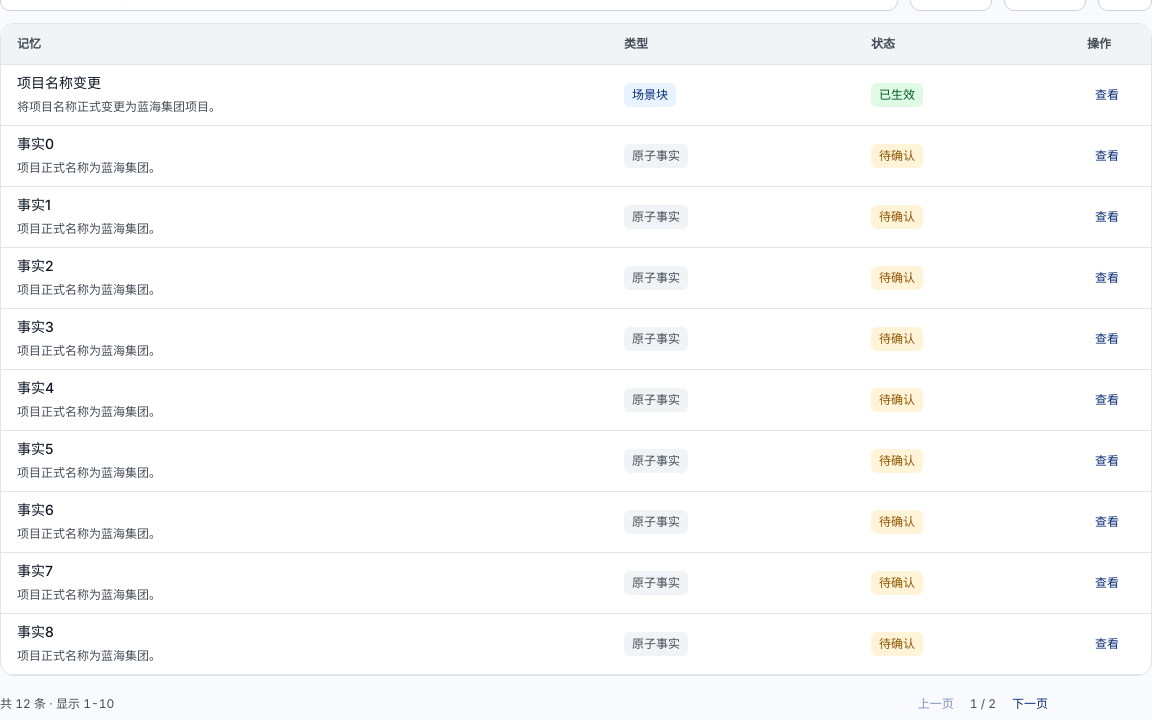
Scenario: 记忆管理统一列表与详情 › 搜索和类型筛选只作用于已加载范围，10行分页保留全部入口
The width and height of the screenshot is (1152, 720).
(page scrolled)
Click the button "下一页".
click(1030, 704)  # box top-left (1004, 688), bottom-right (1056, 719)
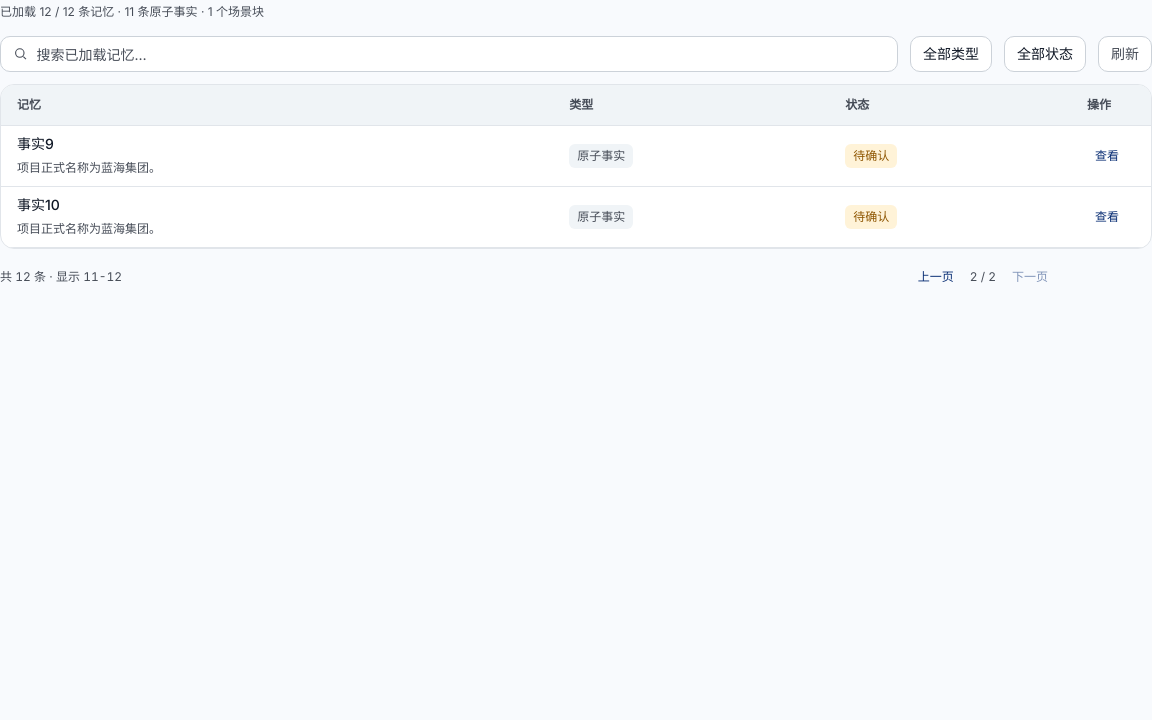
Expected: the button with aria-label "查看事实10" is shown, top-left (1087, 200), bottom-right (1127, 232)
Type "名称变更" into the search field labelled "搜索已加载记忆".
click(461, 54); type("名称变更")  # box top-left (37, 37), bottom-right (885, 71)
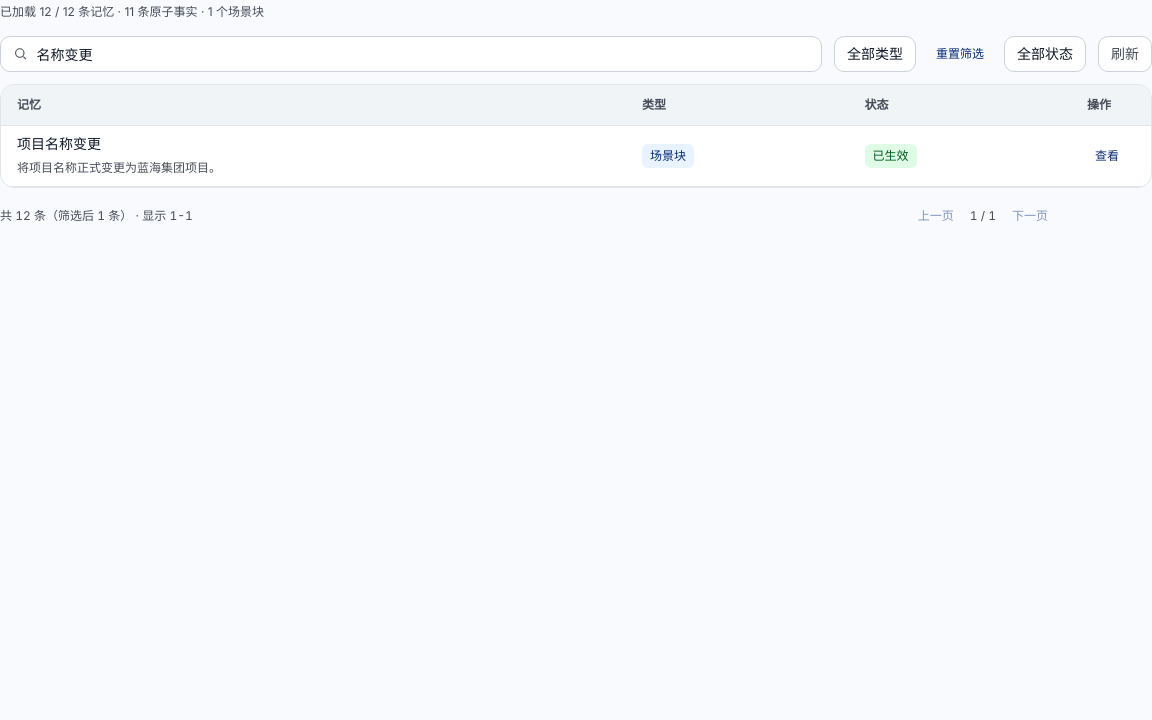
Expected: the number of rows is 2, top-left (1, 85), bottom-right (1151, 125); top-left (1, 125), bottom-right (1151, 186)
Click the button "重置筛选".
click(960, 54)  # box top-left (928, 38), bottom-right (992, 70)
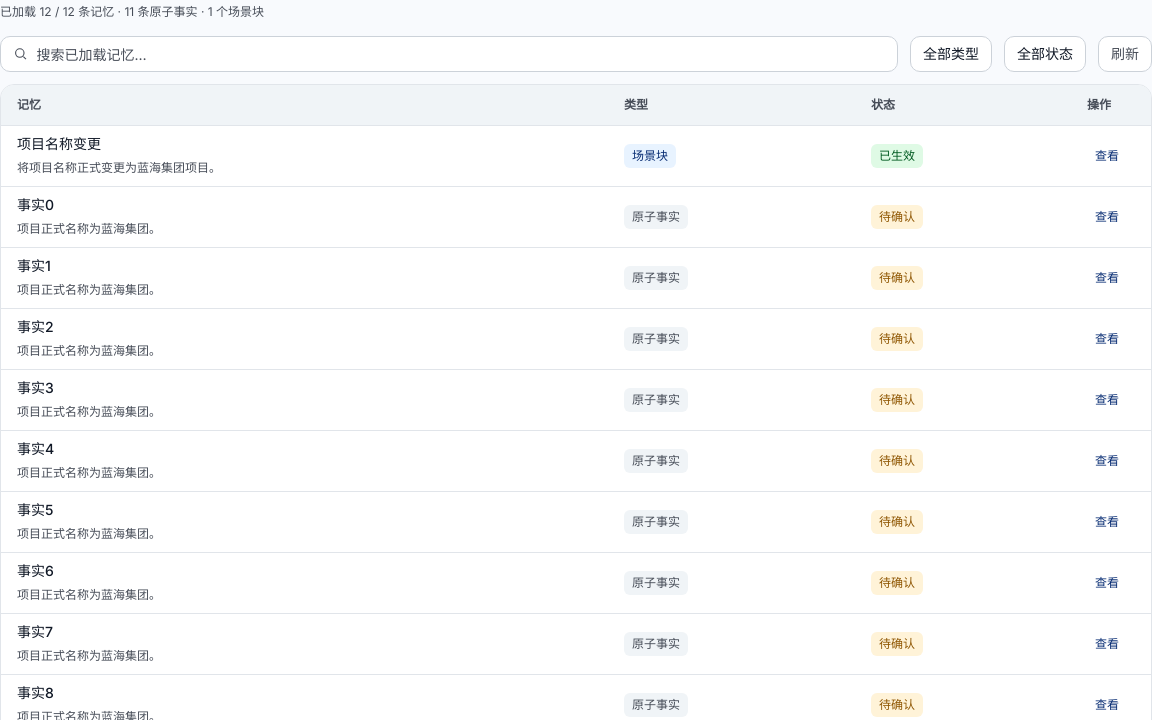
Select "场景块" in the dropdown named "筛选已加载记忆" at (951, 54), box top-left (910, 36), bottom-right (992, 72)
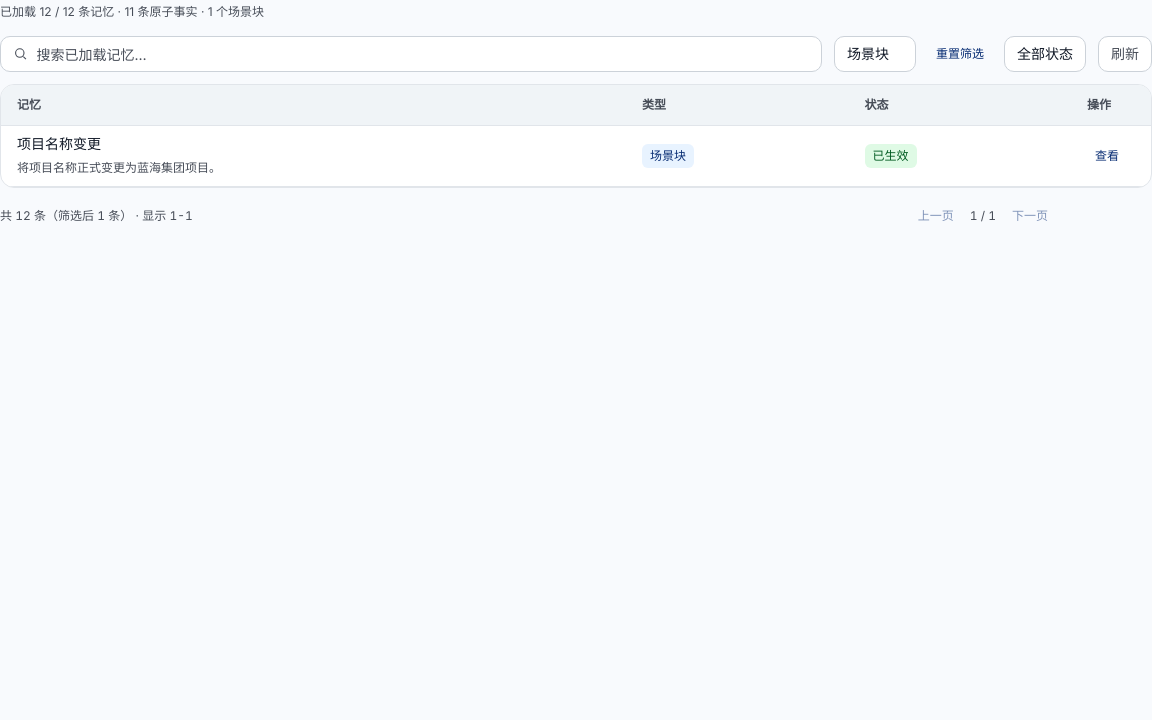
Expected: the number of rows is 2, top-left (1, 85), bottom-right (1151, 125); top-left (1, 125), bottom-right (1151, 186)
Result: the text "事实0" is gone
